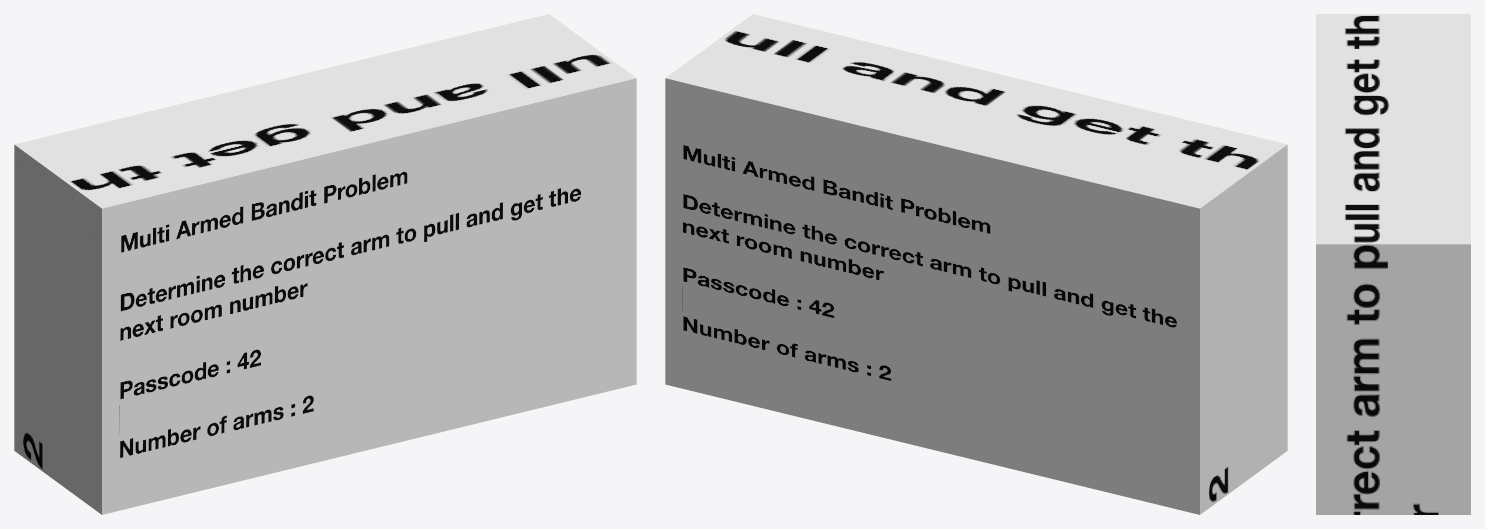
File: one.dae
3 views of the same model, side by side, from view 1: azimuth 30°, elevation 25°; view 2: azimuth 150°, elevation 25°; view 3: azimuth 270°, elevation 25° (orthographic). The views are drawn at different scales.
Parts seen in each view (by area): view 1: Cube; view 2: Cube; view 3: Cube.
Boxes of the visible parts, box(x1,y1,x2,y2) form: Cube: box(14, 14, 636, 514); Cube: box(665, 14, 1287, 514); Cube: box(1316, 14, 1470, 514).
Bounding box in the file's own units: 7.04 × 2 × 3.85.
1 material, 1 textured.
